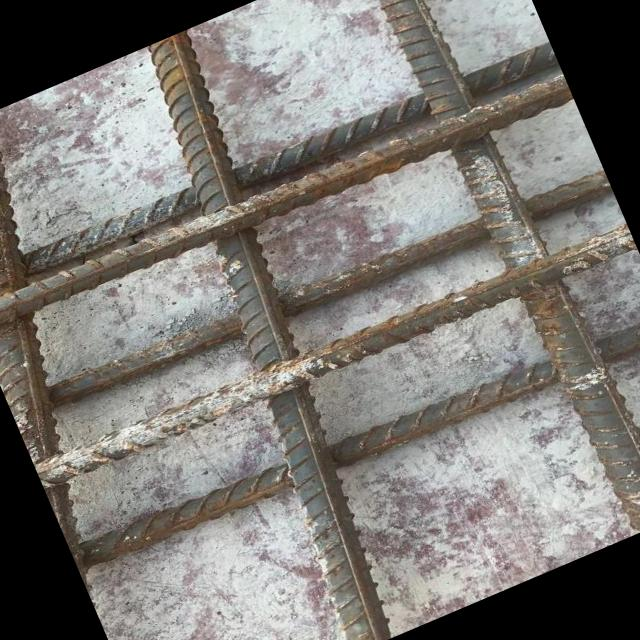ribbed bar: (33, 213, 637, 499), (0, 56, 574, 352), (78, 296, 640, 584), (0, 31, 558, 314), (45, 152, 612, 426), (356, 0, 640, 545), (0, 110, 162, 546)
